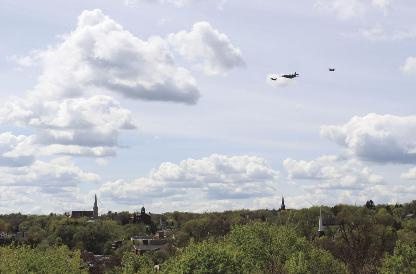Be200: (278, 71, 300, 77)
F14: (327, 67, 335, 70), (270, 77, 276, 80)
